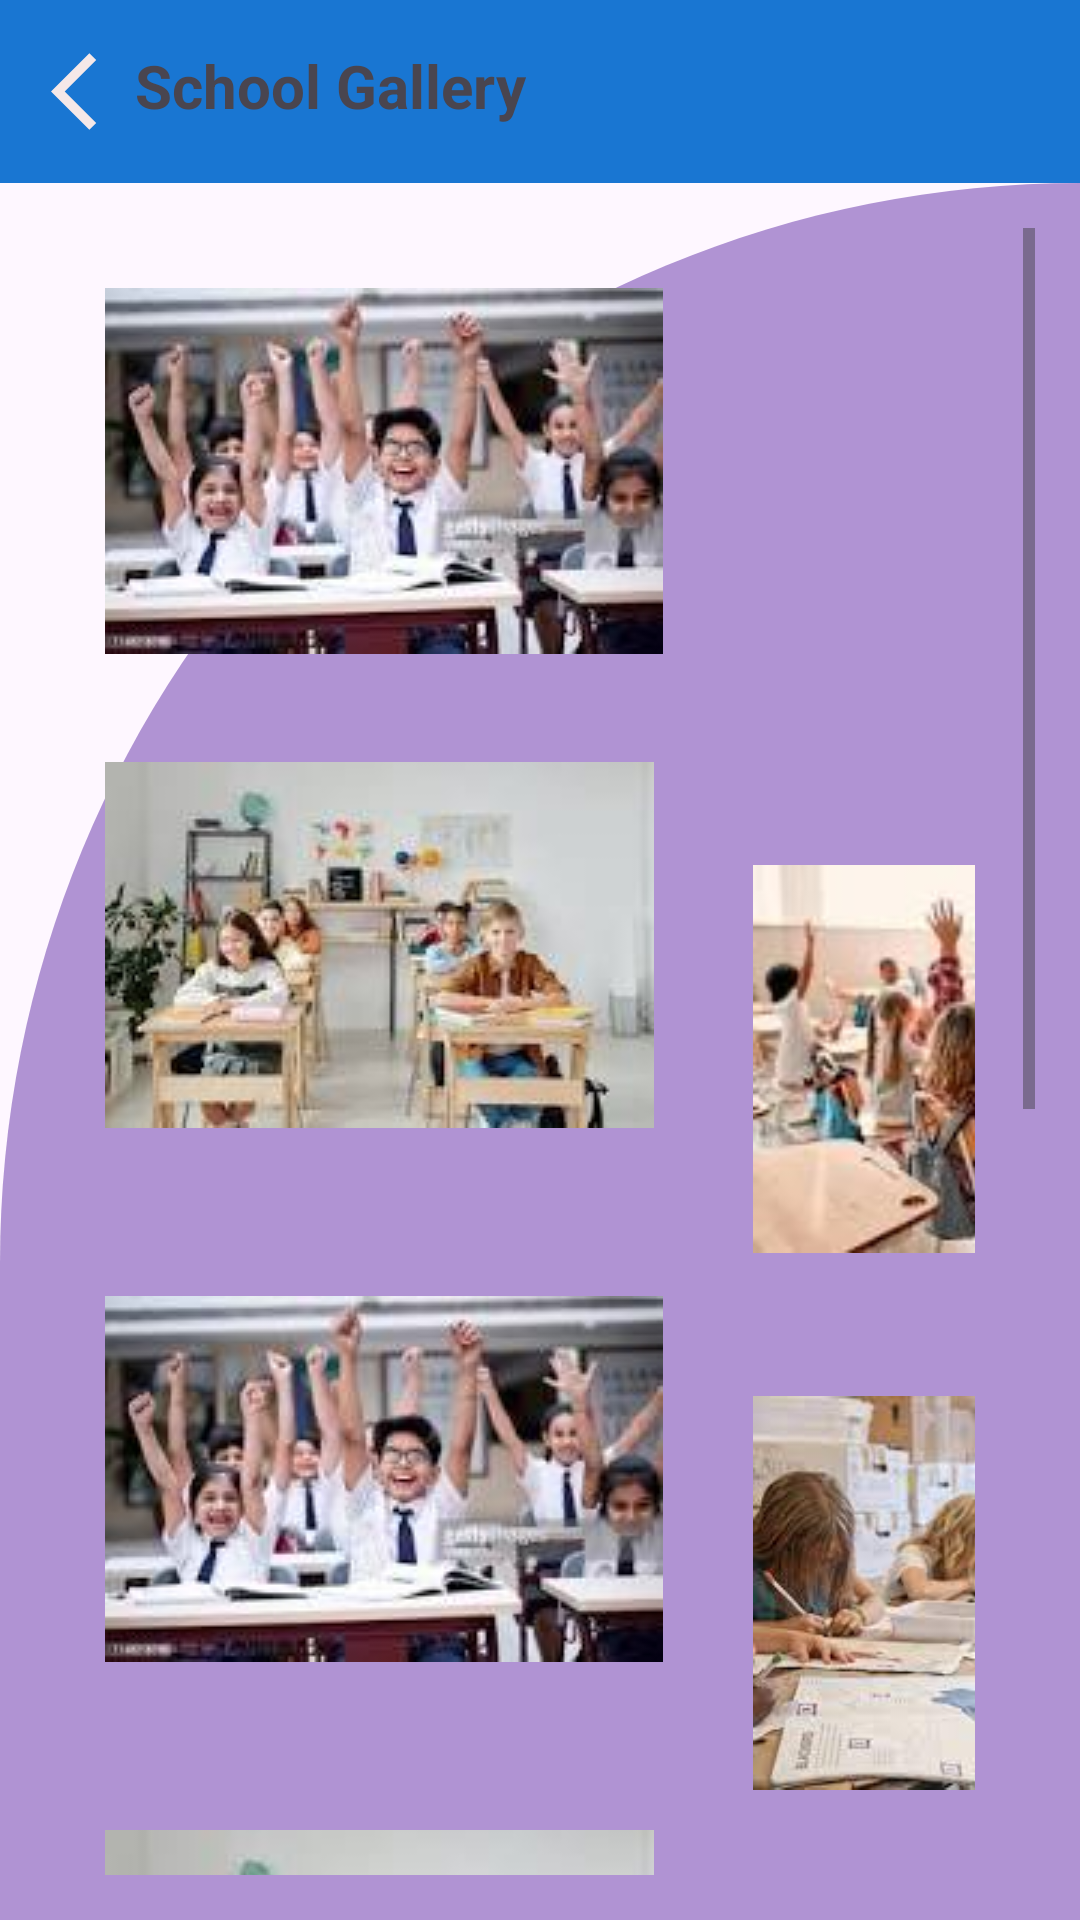

Locate icon controls on the screen. Image size 1080w x 1920h, boxes as bbox=[x1, y1, x2, y2].
backbutton: bbox=[51, 53, 96, 130]
